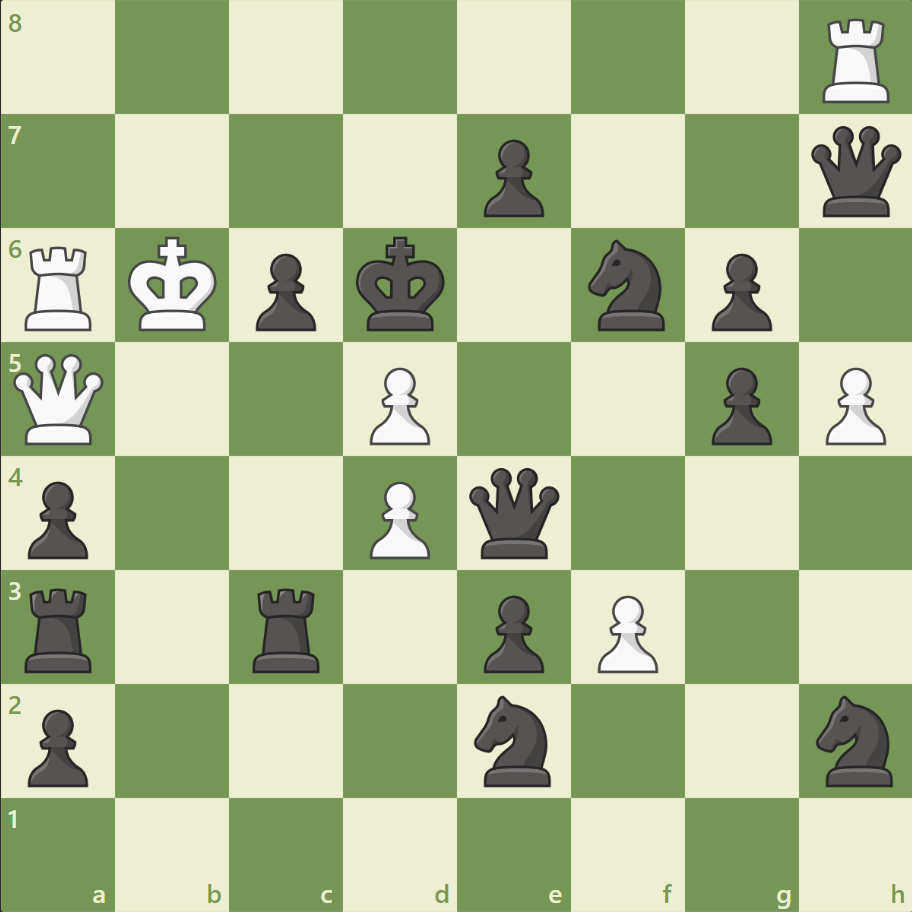K: (124, 231, 224, 339)
P: (361, 359, 435, 450), (815, 359, 889, 450), (361, 473, 435, 564), (588, 586, 662, 677)
Q: (10, 349, 109, 449)
R: (814, 12, 897, 109), (19, 239, 102, 336)
k: (351, 231, 451, 339)
n: (579, 234, 676, 337), (465, 688, 562, 791), (806, 688, 903, 791)
p: (474, 132, 549, 223), (247, 246, 322, 337), (701, 246, 776, 337), (701, 359, 776, 450), (20, 473, 95, 564), (474, 586, 549, 677), (20, 700, 95, 791)
q: (805, 122, 904, 222), (464, 463, 563, 562)
r: (19, 579, 102, 676), (246, 579, 329, 676)
